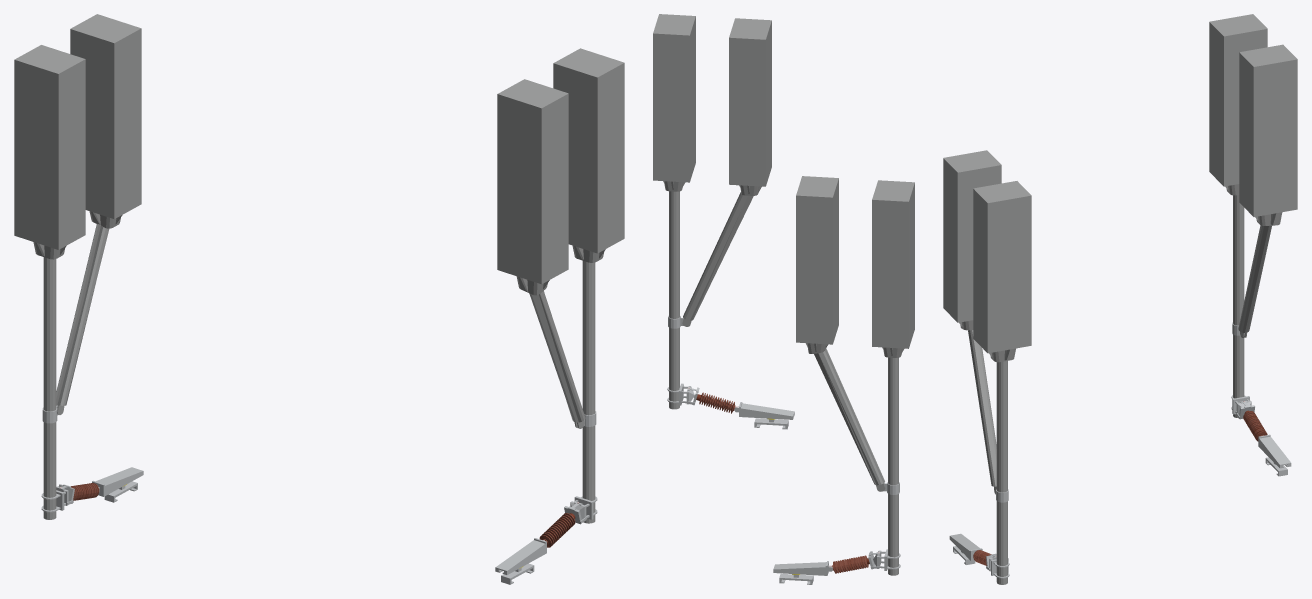
Rendered from catenary_rigid_end_h_p.obj.
3 renders of one model, left to right at view 1: azimuth 30°, elevation 25°; view 2: azimuth 150°, elevation 25°; view 3: azimuth 270°, elevation 25°, orthographic. The views are drawn at different scales.
Visible parts, largest first — view 1: 1.001, 1.002; view 2: 1.001, 1.002; view 3: 1.002, 1.001.
Boxes of the visible parts, <box> form: 1.001: <box>14,14,143,519</box>; 1.002: <box>495,48,624,584</box>; 1.001: <box>773,176,914,584</box>; 1.002: <box>653,14,794,429</box>; 1.002: <box>943,150,1031,584</box>; 1.001: <box>1209,14,1297,476</box>.
Size of the model in its own units: 2.8 by 2.8 by 2.22.
2 materials, 2 textured.
